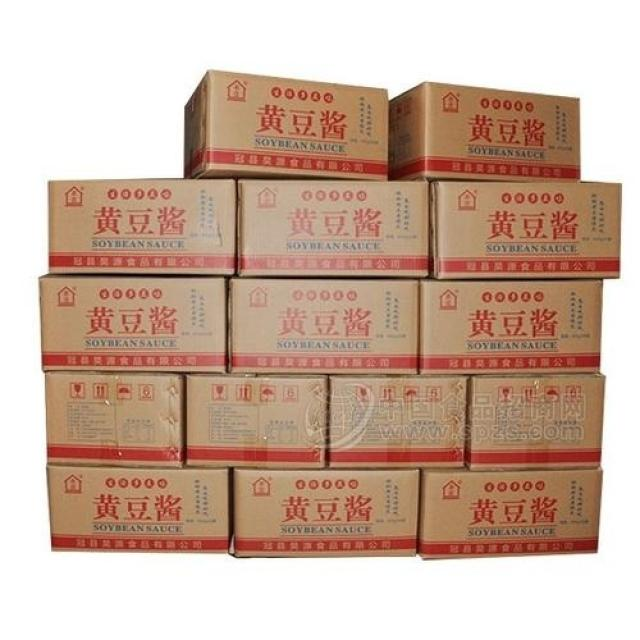box: (183, 70, 388, 182), (429, 180, 622, 282), (236, 180, 430, 280), (387, 82, 580, 182), (227, 276, 420, 375), (41, 273, 229, 374), (47, 180, 238, 276), (419, 279, 603, 375), (417, 467, 603, 559), (229, 468, 421, 557), (47, 465, 232, 553), (463, 371, 605, 471), (184, 372, 328, 468), (46, 370, 184, 467), (325, 376, 468, 468)
